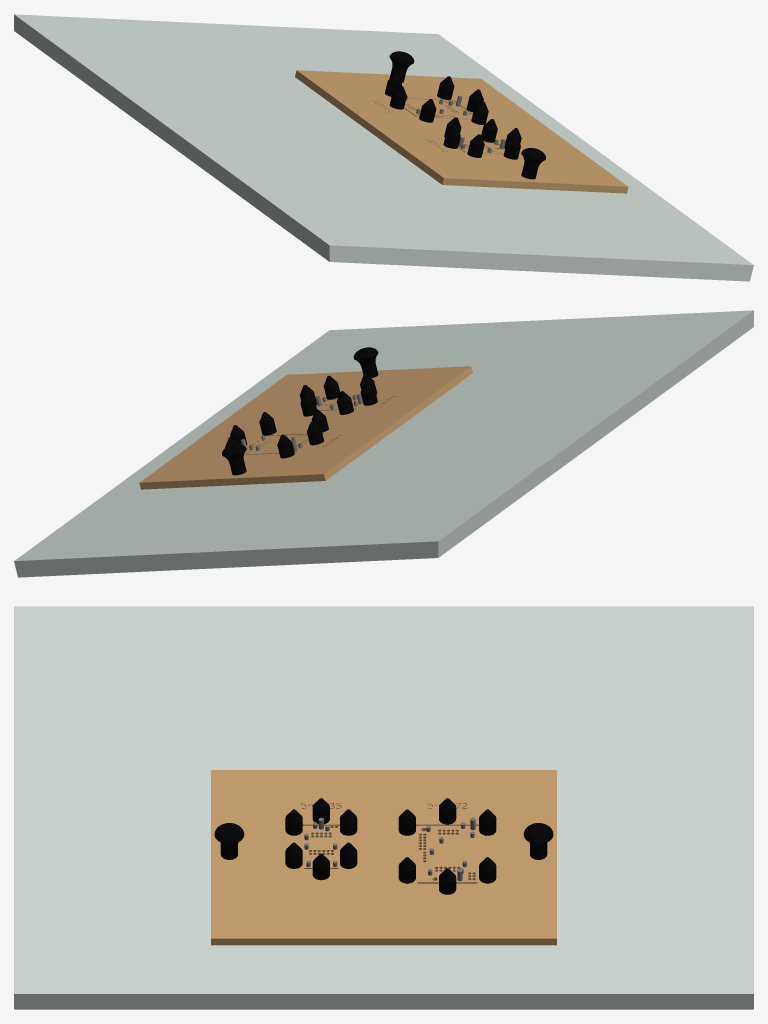
Rendered from adapter_cover_bmt135_bmt172_visual.dae.
3 renders of one model, top to bottom at view 1: azimuth 30°, elevation 25°; view 2: azimuth 150°, elevation 25°; view 3: azimuth 270°, elevation 25°, orthographic. The views are drawn at different scales.
Parts seen in each view (by area): view 1: adapter_cover, adapter_recess, adapter_holder_left, adapter_holder_right; view 2: adapter_cover, adapter_recess, adapter_holder_right, adapter_holder_left; view 3: adapter_cover, adapter_recess, adapter_holder_left, adapter_holder_right.
Part boxes in pixels (left/top/right/bottom): adapter_cover: left=14, top=14, right=753, bottom=281; adapter_recess: left=295, top=70, right=628, bottom=193; adapter_holder_left: left=521, top=148, right=545, bottom=179; adapter_holder_right: left=389, top=51, right=414, bottom=82; adapter_cover: left=14, top=310, right=753, bottom=577; adapter_recess: left=139, top=366, right=472, bottom=489; adapter_holder_right: left=222, top=444, right=246, bottom=475; adapter_holder_left: left=353, top=347, right=378, bottom=378; adapter_cover: left=14, top=606, right=753, bottom=1009; adapter_recess: left=211, top=770, right=556, bottom=945; adapter_holder_left: left=214, top=823, right=244, bottom=859; adapter_holder_right: left=523, top=823, right=553, bottom=859.
Bounding box in the file's own units: 33.24 × 42.8 × 10.39.
